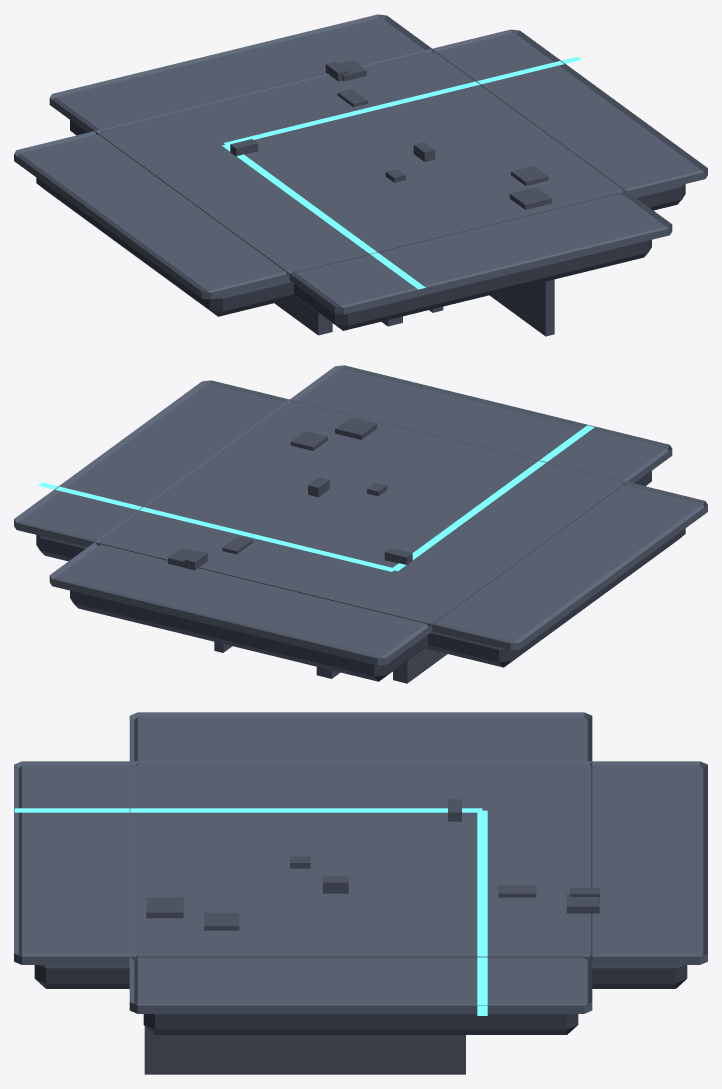
The model's file is platform_corner.glb.
3 views of the same model, one above another, from view 1: azimuth 30°, elevation 25°; view 2: azimuth 150°, elevation 25°; view 3: azimuth 270°, elevation 25° (orthographic). The views are drawn at different scales.
Parts seen in each view (by area): view 1: platform_corner; view 2: platform_corner; view 3: platform_corner.
Boxes of the visible parts, <box> form: platform_corner: <box>14,14,707,336</box>; platform_corner: <box>14,365,707,683</box>; platform_corner: <box>14,712,707,1074</box>.
Size of the model in its own units: 6.2 by 1.59 by 6.
